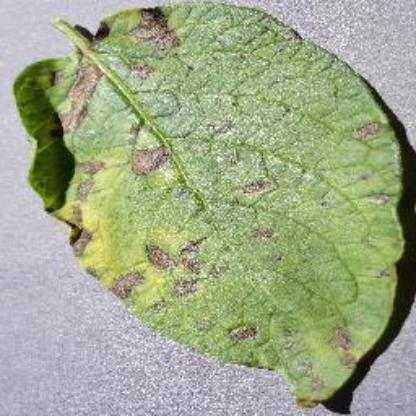Early-Blight: (10, 0, 415, 414)
